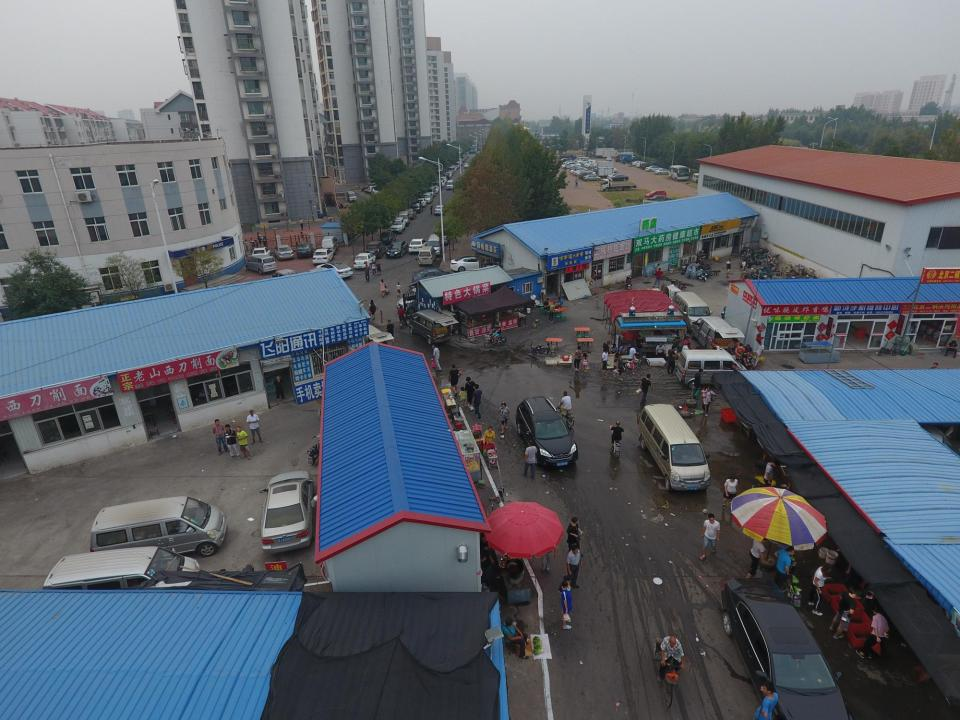bus: (668, 165, 690, 182)
car: (721, 577, 856, 720), (515, 395, 578, 468), (260, 470, 314, 554), (396, 287, 456, 315), (411, 268, 458, 285), (450, 255, 493, 273), (316, 261, 353, 279), (385, 240, 409, 258), (312, 248, 334, 266), (365, 240, 386, 258), (354, 252, 376, 269), (273, 244, 294, 261), (252, 246, 272, 262), (408, 238, 428, 254), (388, 217, 406, 234), (296, 242, 313, 258), (434, 228, 450, 244), (647, 194, 675, 203), (378, 231, 396, 244), (644, 189, 667, 199), (371, 186, 392, 195), (372, 187, 395, 194), (608, 174, 628, 182), (410, 201, 423, 213), (367, 186, 385, 194), (583, 174, 601, 182), (434, 205, 448, 215), (654, 168, 673, 175), (580, 172, 599, 179), (360, 184, 378, 191), (570, 167, 588, 174), (404, 209, 416, 219), (578, 171, 597, 177), (364, 186, 380, 193), (566, 161, 582, 168), (645, 166, 663, 172), (572, 169, 590, 175), (606, 173, 624, 179), (577, 158, 592, 165), (572, 168, 586, 175), (569, 166, 585, 172), (565, 162, 581, 168), (416, 198, 426, 207), (575, 171, 590, 177), (560, 164, 575, 170), (586, 162, 600, 168), (584, 162, 598, 168), (430, 185, 439, 194), (433, 182, 442, 190), (636, 162, 648, 168), (632, 160, 644, 166), (437, 180, 445, 187), (440, 177, 448, 183), (445, 172, 452, 178), (446, 170, 453, 176), (450, 165, 456, 172), (452, 164, 458, 170), (461, 154, 467, 160), (464, 163, 470, 169), (606, 156, 612, 162), (459, 157, 465, 162), (464, 154, 469, 158)
truck: (608, 285, 685, 316), (272, 268, 310, 291), (599, 178, 638, 192), (590, 161, 614, 173), (594, 148, 618, 158), (598, 167, 619, 177), (614, 153, 632, 163), (621, 156, 642, 164), (602, 150, 620, 159), (559, 154, 577, 160)
van: (42, 546, 202, 624), (89, 496, 228, 568), (638, 404, 711, 490), (675, 349, 749, 390), (690, 316, 745, 358), (408, 309, 459, 345), (673, 292, 713, 332), (353, 324, 394, 360), (245, 254, 277, 275), (425, 234, 444, 256), (418, 246, 436, 266), (320, 236, 338, 255), (397, 211, 410, 227), (346, 190, 357, 202), (422, 192, 433, 204), (692, 173, 705, 183), (425, 187, 436, 197), (572, 157, 589, 163), (446, 179, 454, 189), (442, 173, 450, 180), (456, 158, 462, 166), (448, 167, 454, 174), (453, 162, 460, 168), (464, 152, 470, 157)
